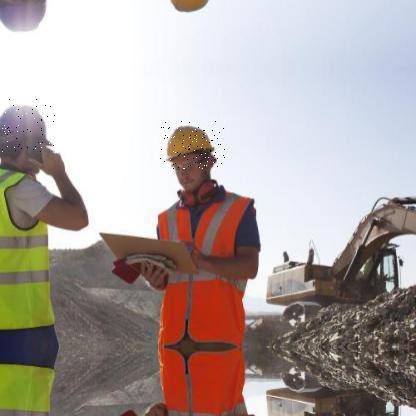safetyhelmet: (160, 120, 226, 170), (0, 100, 56, 154)
